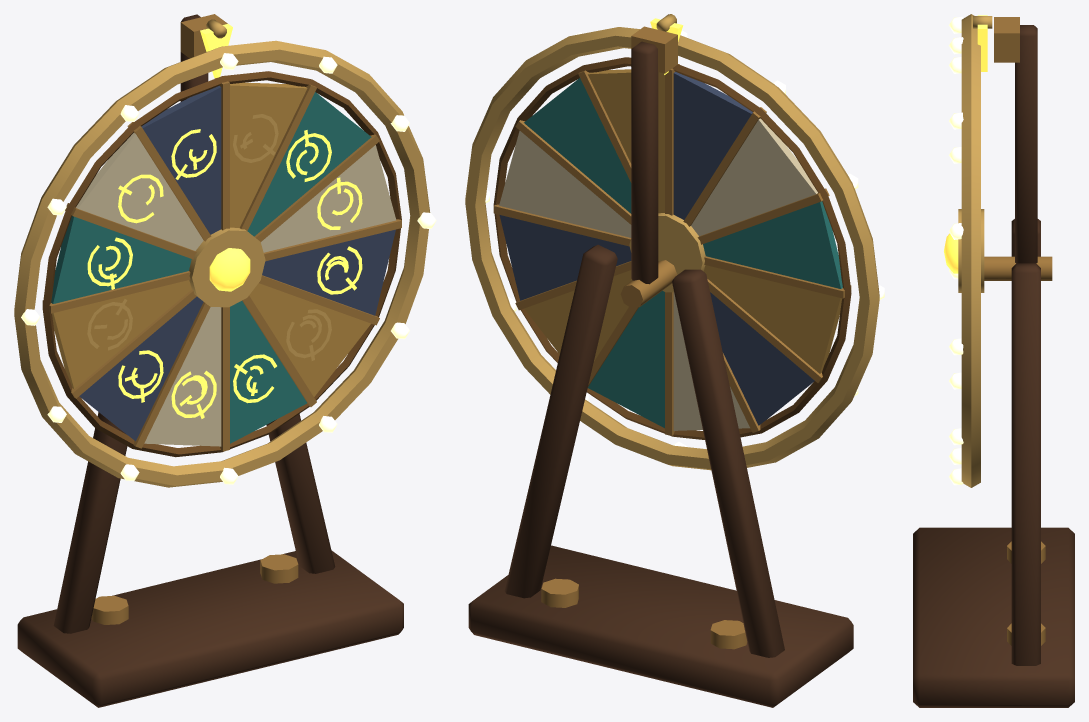
The model's file is prop_wheel_of_fortune_m.glb.
3 views of the same model, side by side, from view 1: azimuth 30°, elevation 25°; view 2: azimuth 150°, elevation 25°; view 3: azimuth 270°, elevation 25° (orthographic).
Visible parts, largest first — view 1: wheel_spin, wheel_prop; view 2: wheel_spin, wheel_prop; view 3: wheel_prop, wheel_spin, wheel_pointer.
Part boxes in pixels (x1,y1,x2,y2): wheel_spin: (14, 40, 436, 487); wheel_prop: (17, 14, 403, 707); wheel_spin: (465, 27, 884, 470); wheel_prop: (468, 26, 853, 707); wheel_prop: (913, 17, 1074, 707); wheel_spin: (944, 14, 984, 487); wheel_pointer: (977, 15, 987, 71).
Bounding box in the file's own units: 1.47 × 2.11 × 0.5.
